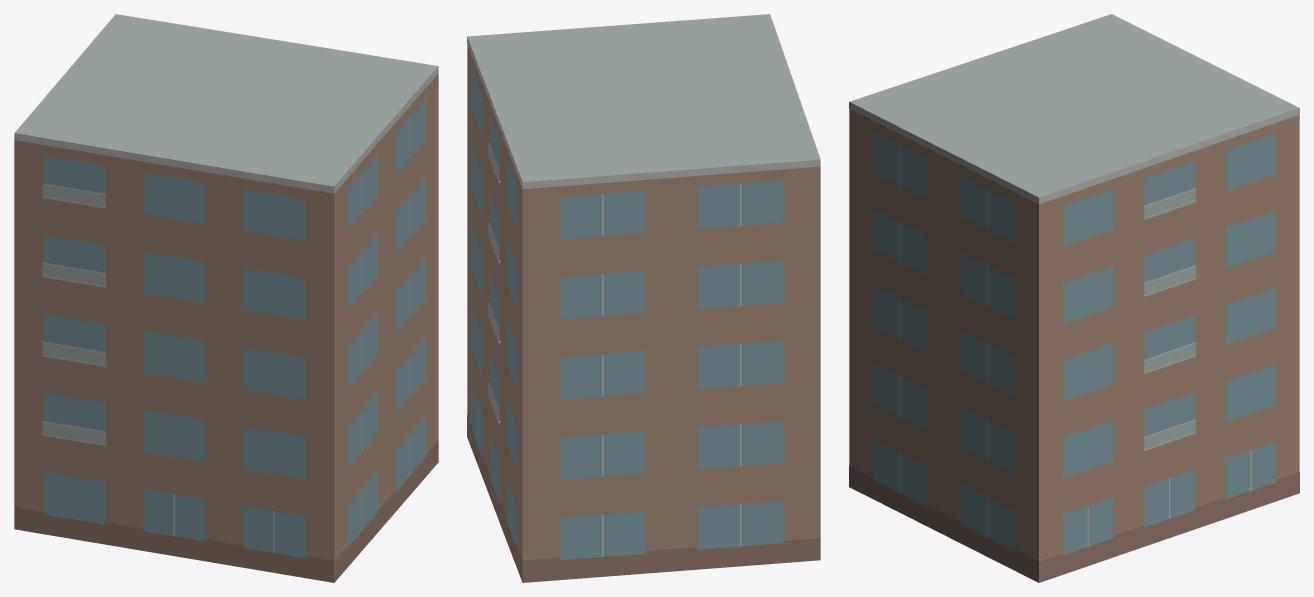
Rendered from survey-upis-33046325.glb.
The picture shows the model from 3 angles, left to right: view 1: azimuth 30°, elevation 25°; view 2: azimuth 150°, elevation 25°; view 3: azimuth 270°, elevation 25°; orthographic projection. The views are drawn at different scales.
Visible parts, largest first — view 1: survey-upis-33046325.tmp; view 2: survey-upis-33046325.tmp; view 3: survey-upis-33046325.tmp.
Boxes of the visible parts, x1,y1,x2,y2 form: survey-upis-33046325.tmp: (14,14,438,582); survey-upis-33046325.tmp: (467,14,820,582); survey-upis-33046325.tmp: (849,14,1299,582).
Bounding box in the file's own units: 14.21 × 13.9 × 14.74.
